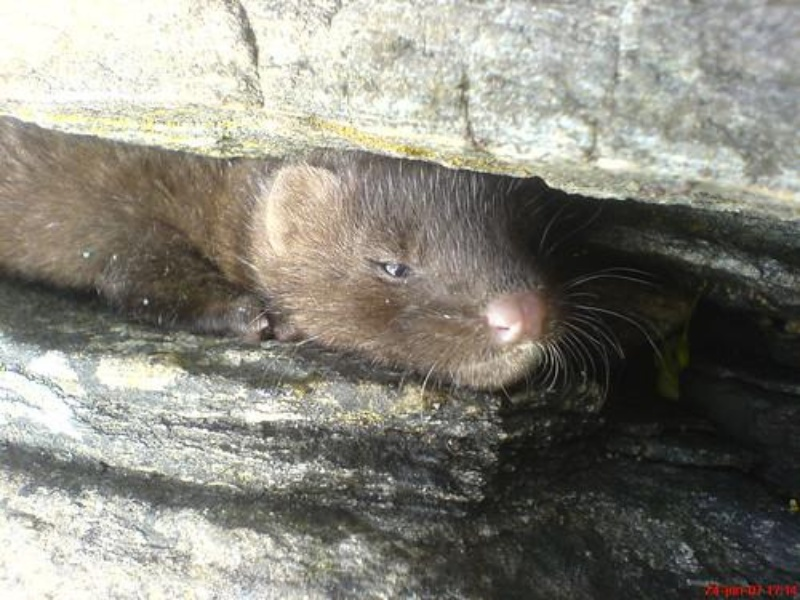minkish: (1, 106, 586, 399)
